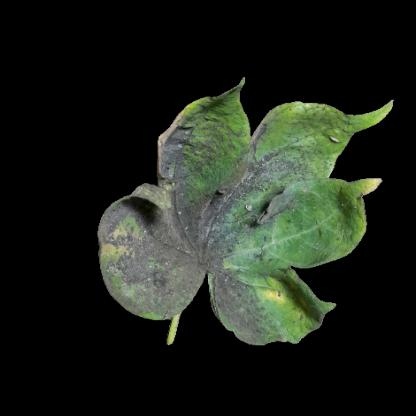curl_stage1: (333, 184, 367, 248), (260, 277, 296, 310), (281, 310, 317, 338), (280, 236, 308, 263), (274, 115, 300, 141), (103, 245, 116, 257)
sooty: (150, 201, 240, 289), (166, 132, 214, 201), (225, 152, 281, 199), (283, 147, 319, 201), (217, 287, 258, 333), (116, 255, 153, 303), (241, 201, 277, 247), (108, 210, 149, 246)
